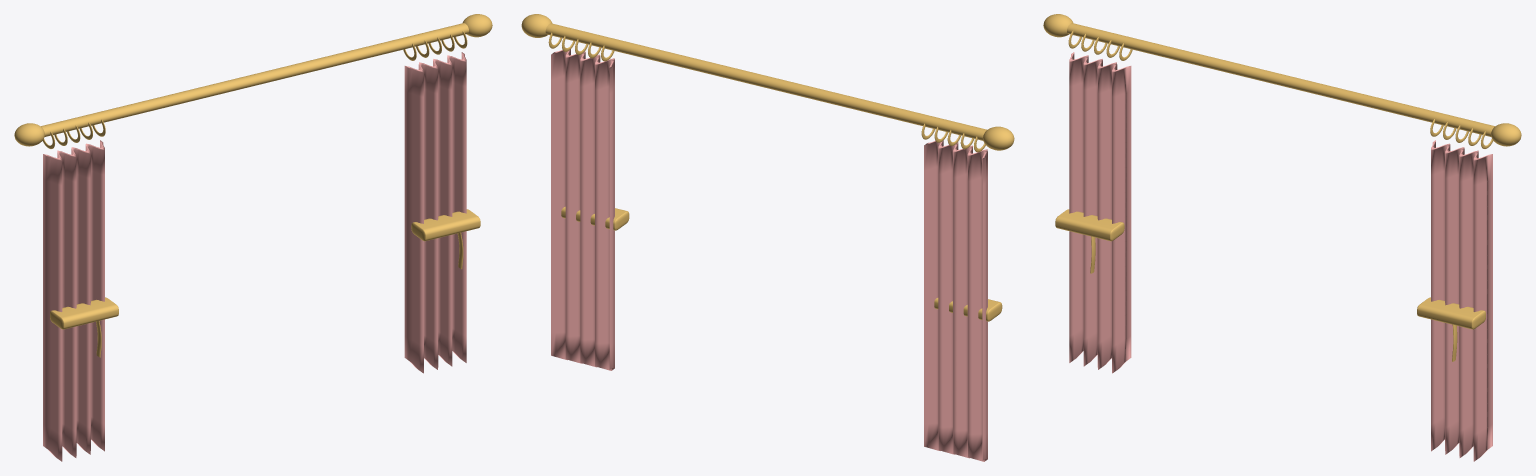
Rendered from curtainRoseTieback.glb.
3 renders of one model, left to right at view 1: azimuth 30°, elevation 25°; view 2: azimuth 150°, elevation 25°; view 3: azimuth 330°, elevation 25°, orthographic. The views are drawn at different scales.
Parts seen in each view (by area): view 1: Folded curtain fabric.001, Folded curtain fabric, Curtain rod, Curtain tieback.001, Curtain tieback, Rod finial, Rod finial.001; view 2: Folded curtain fabric.001, Folded curtain fabric, Curtain rod, Rod finial, Rod finial.001; view 3: Folded curtain fabric, Folded curtain fabric.001, Curtain rod, Curtain tieback, Curtain tieback.001, Rod finial.001, Rod finial.
Boxes of the visible parts, x1,y1,x2,y2 form: Folded curtain fabric.001: (404,52,466,373); Folded curtain fabric: (43,140,104,461); Curtain rod: (41,23,468,136); Curtain tieback.001: (411,209,480,241); Curtain tieback: (50,297,118,329); Rod finial: (14,123,44,146); Rod finial.001: (462,14,492,37); Folded curtain fabric.001: (551,49,614,370); Folded curtain fabric: (924,140,987,461); Curtain rod: (545,23,987,140); Rod finial: (983,126,1014,150); Rod finial.001: (521,14,552,37); Folded curtain fabric: (1069,52,1131,373); Folded curtain fabric.001: (1431,140,1492,461); Curtain rod: (1067,23,1494,136); Curtain tieback: (1055,209,1124,241); Curtain tieback.001: (1417,297,1485,329); Rod finial.001: (1491,123,1521,146); Rod finial: (1043,14,1073,37).
Size of the model in its own units: 2.1 by 1.41 by 0.2041.
